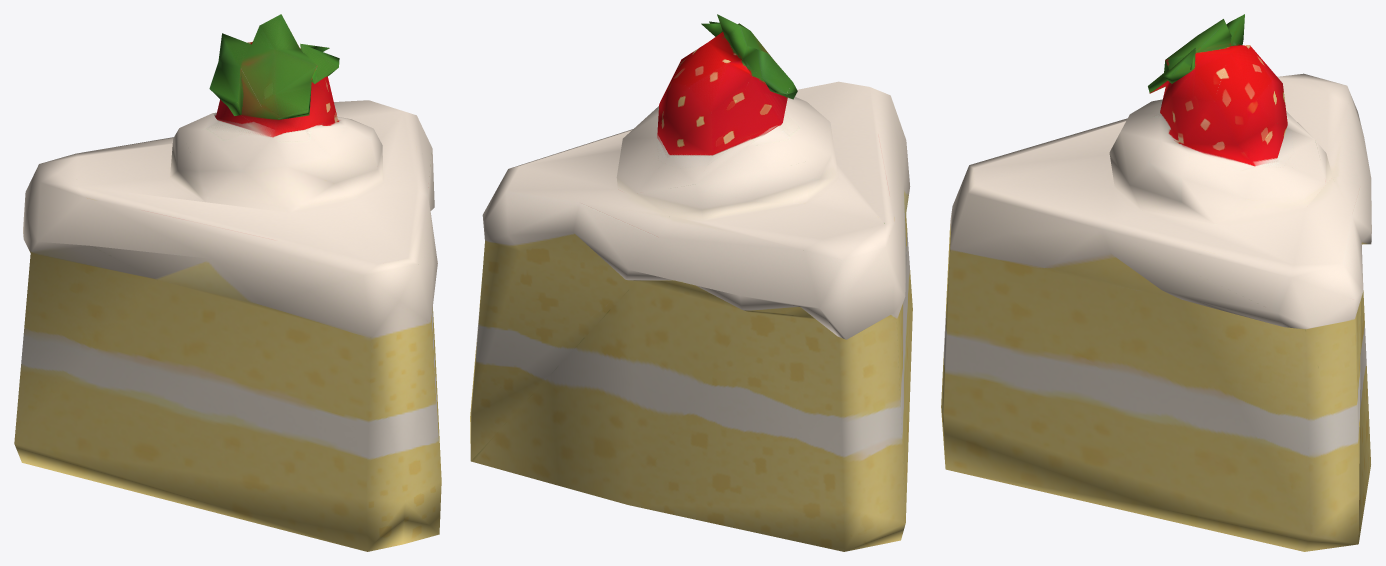
The model's file is source.fbx.
3 views of the same model, side by side, from view 1: azimuth 30°, elevation 25°; view 2: azimuth 150°, elevation 25°; view 3: azimuth 270°, elevation 25° (orthographic). The views are drawn at different scales.
Visible parts, largest first — view 1: Mesh_0; view 2: Mesh_0; view 3: Mesh_0.
Boxes of the visible parts, x1,y1,x2,y2 form: Mesh_0: (14,14,441,551); Mesh_0: (470,14,912,551); Mesh_0: (941,14,1371,551).
Size of the model in its own units: 18.55 by 18 by 16.1.
Materials: 1 (1 with a texture image).
